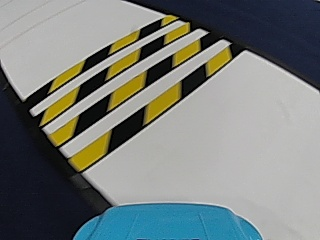bump: (37, 25, 189, 138)
